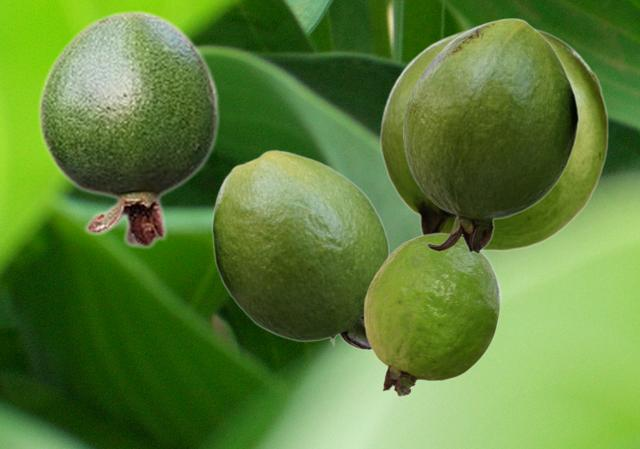guava: (379, 25, 608, 250), (37, 9, 220, 249), (403, 18, 578, 253), (211, 149, 391, 349), (363, 232, 500, 396)
